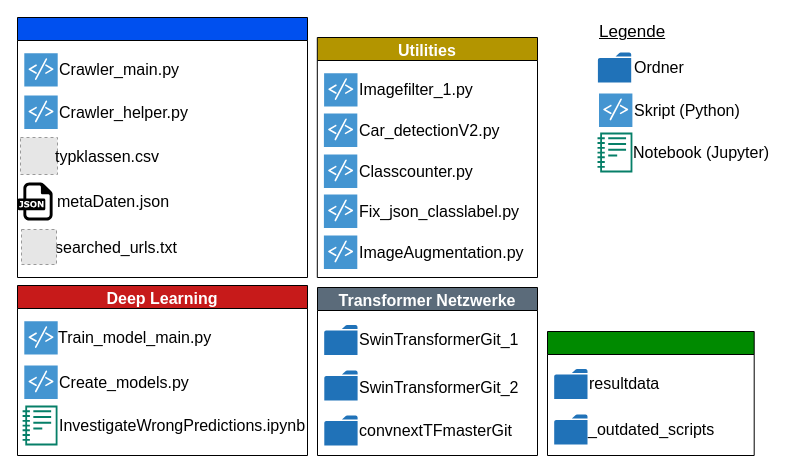
This 799x473 diagram has some shape labels left out. Grey dashed boxes stand in for pictures. Each missing label, with the box of its shape:
Ergebnisse / Sonstiges: (546, 330, 754, 456)
Webcrawler: (16, 16, 308, 278)
